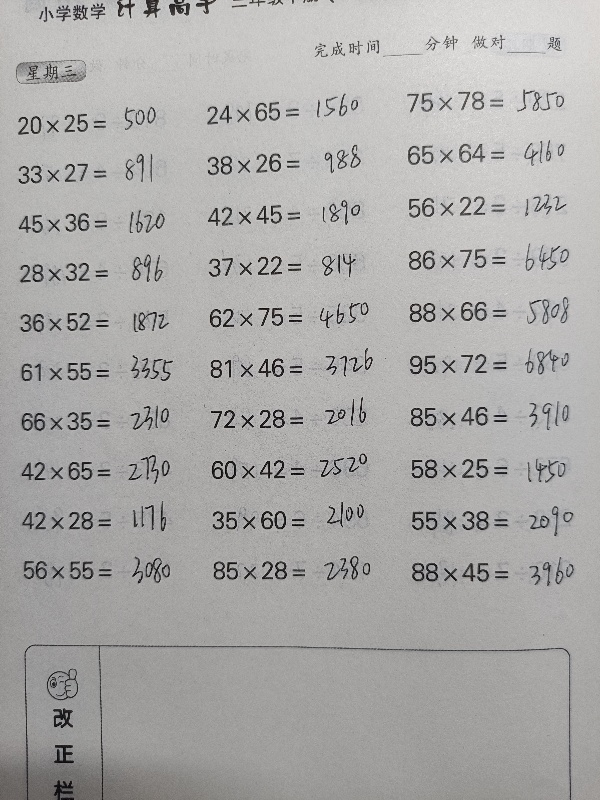equation: (399, 188, 579, 224), (403, 555, 583, 590), (205, 553, 385, 588), (403, 503, 583, 538), (204, 503, 384, 538), (403, 451, 583, 486), (401, 399, 581, 434), (400, 346, 580, 381), (400, 294, 580, 329), (11, 254, 191, 289), (200, 248, 380, 283), (399, 241, 579, 276), (10, 205, 190, 240), (199, 197, 379, 232), (198, 146, 378, 181), (398, 136, 578, 171), (198, 95, 378, 130), (398, 83, 578, 118), (15, 553, 195, 587), (13, 504, 193, 538), (13, 454, 193, 488), (202, 452, 382, 486), (12, 404, 192, 438), (203, 402, 383, 436), (201, 351, 381, 385), (11, 305, 191, 339), (200, 300, 380, 334), (9, 156, 189, 190), (9, 106, 189, 140), (11, 355, 191, 388)
